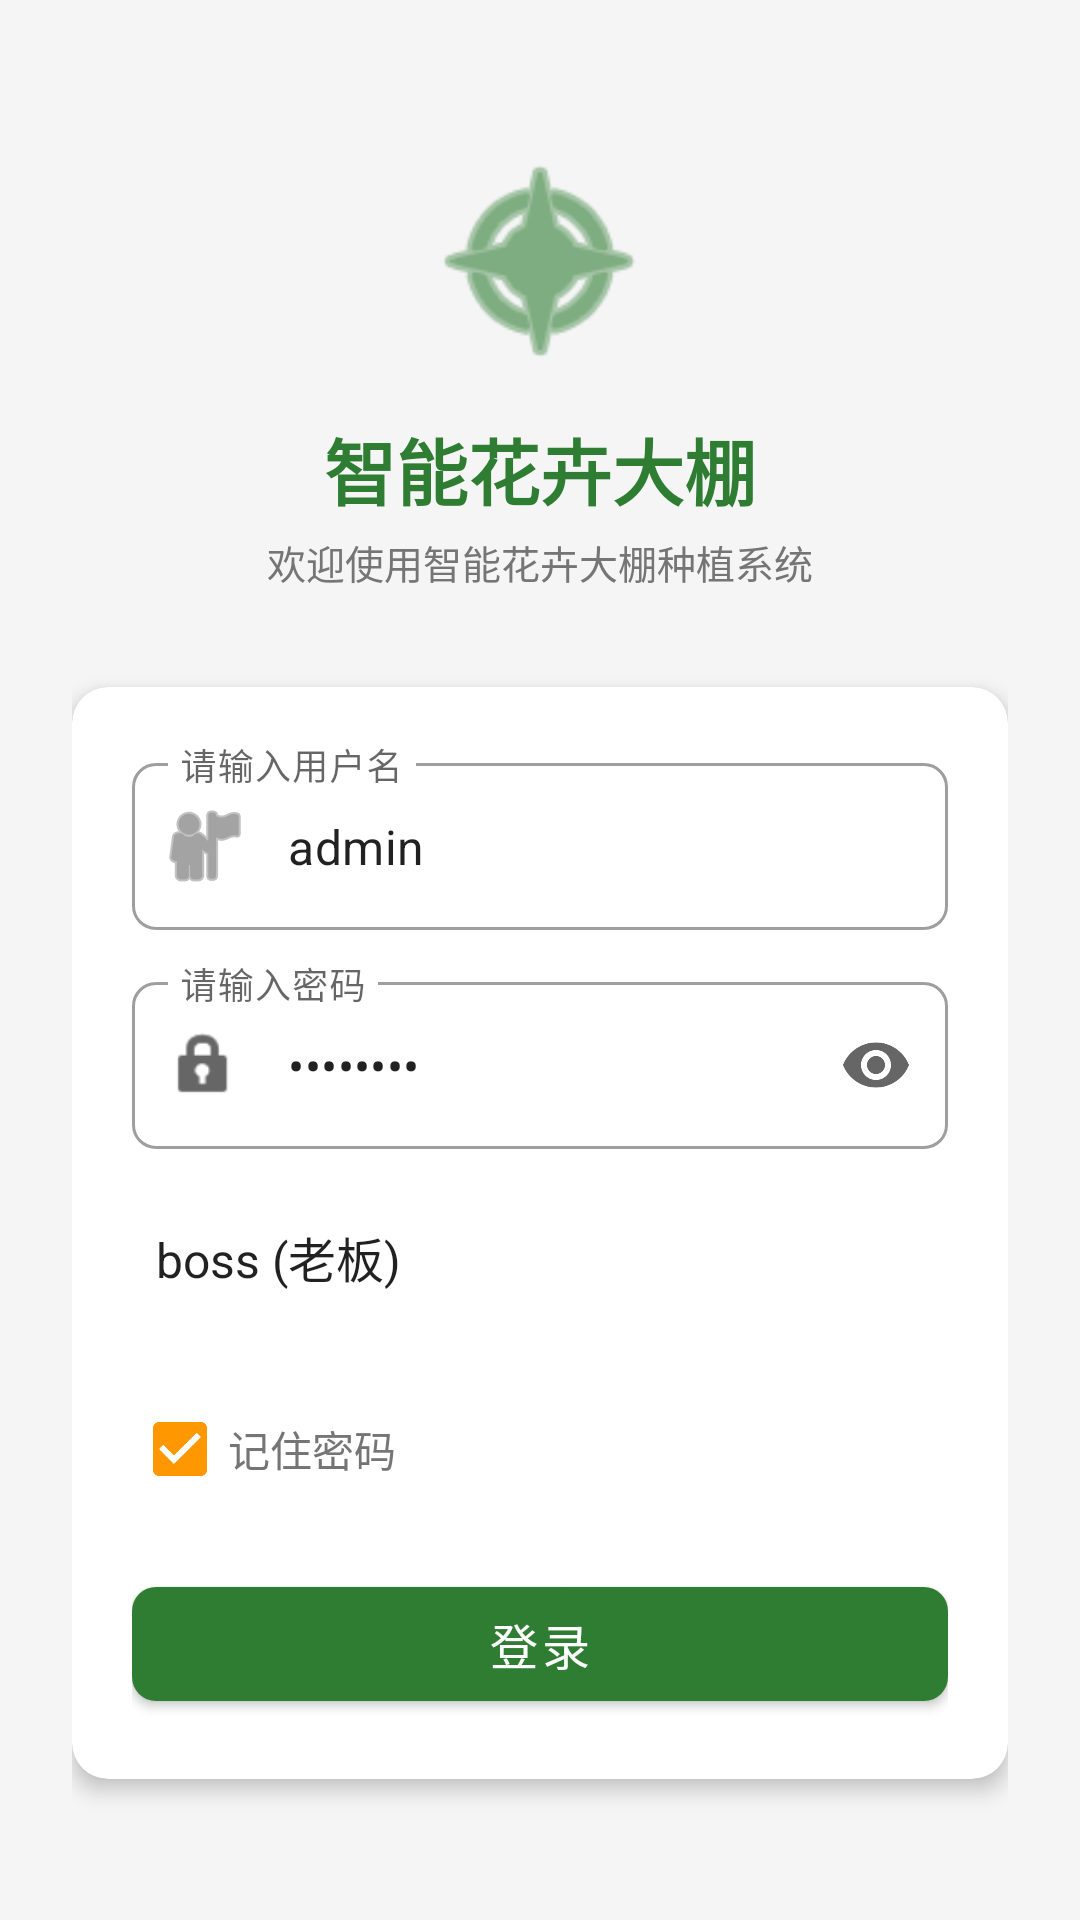

Screen size 1080*1920. Icon name, then its center in pixels as (x,y):
compass: (539,261)
